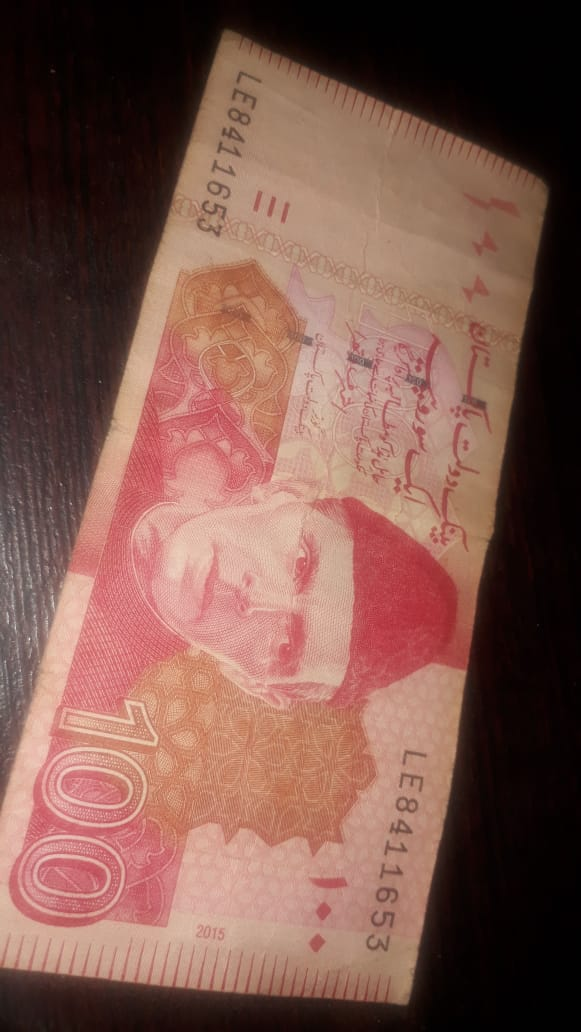100 rupee: (1, 9, 552, 1017)
